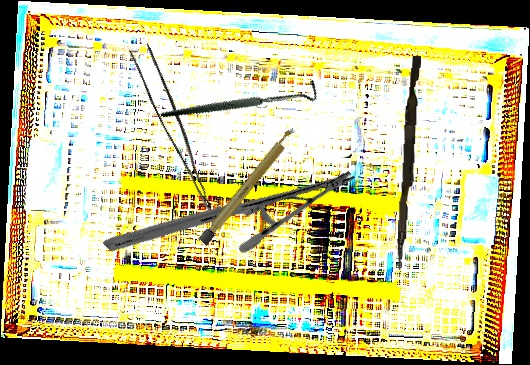Hook Surgical: (159, 35, 323, 164)
Needle Holder: (102, 84, 357, 338)
Pusher: (395, 55, 422, 271)
Scalpel Handle: (198, 125, 299, 247)
Tissue Forceps: (123, 41, 231, 211)
